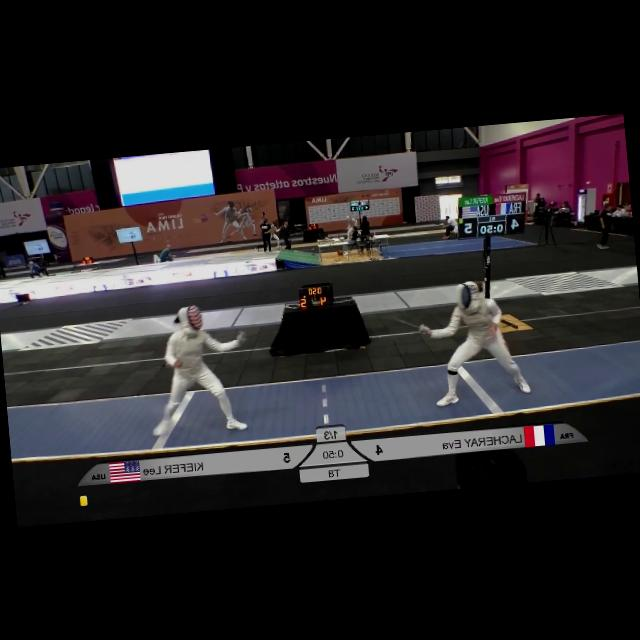blade: (381, 308, 424, 336)
